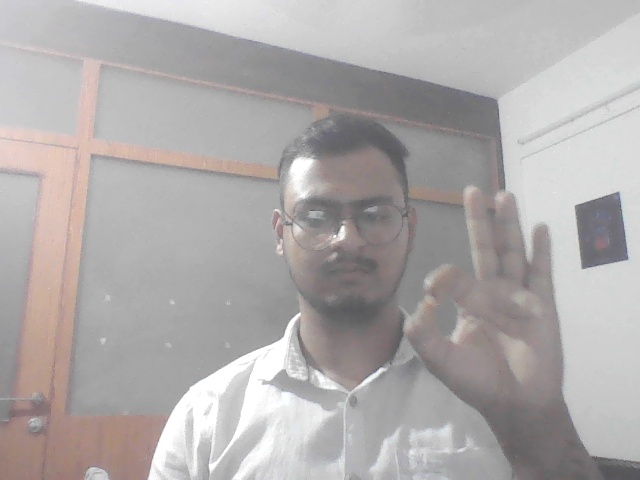OK: (395, 176, 573, 431)
